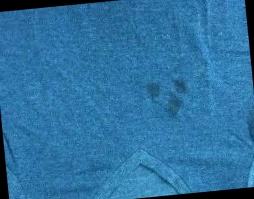oil: (143, 76, 190, 120)
